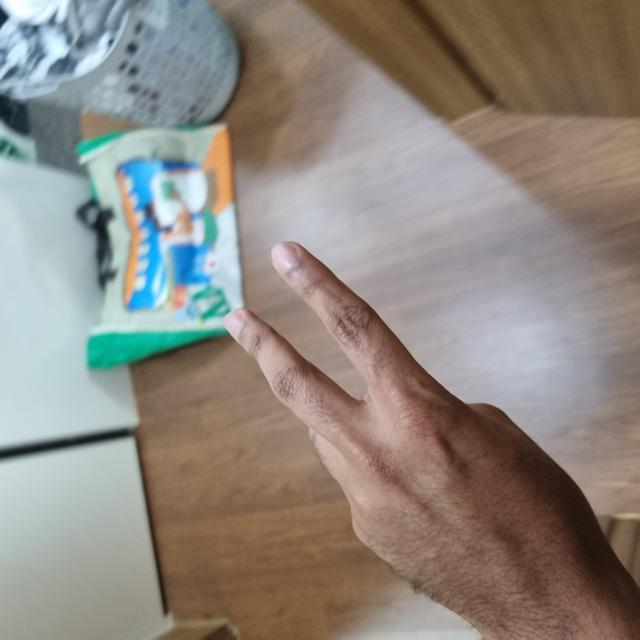Scissors: (0, 234, 398, 595)
